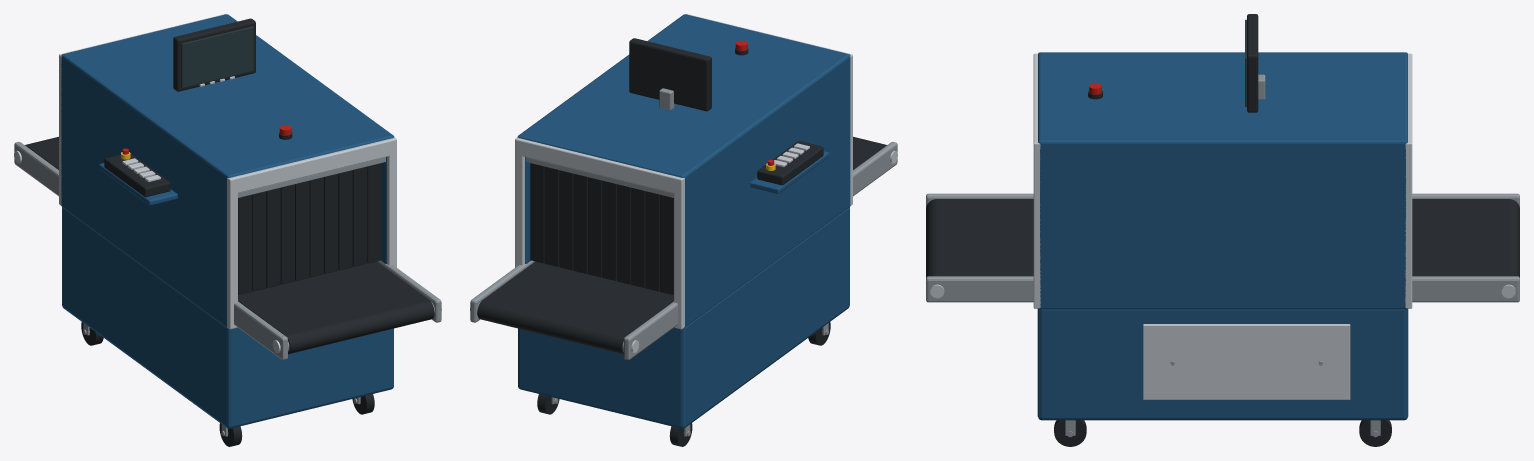
3 renders of one model, left to right at view 1: azimuth 30°, elevation 25°; view 2: azimuth 150°, elevation 25°; view 3: azimuth 270°, elevation 25°, orthographic. The views are drawn at different scales.
Visible parts, largest first — view 1: Lower equipment cabinet, Tunnel roof, Tunnel side wall -1, Continuous conveyor belt, Monitor blank glass, Portal top -1, Conveyor side rail -1, Curtain strip -1_8, Portal upright -1_-1, Monitor case, Curtain strip -1_3, Curtain strip -1_5 (+14 smaller); view 2: Lower equipment cabinet, Tunnel roof, Tunnel side wall -1, Continuous conveyor belt, Monitor case, Portal top 1, Conveyor side rail -1, Curtain strip 1_8, Portal upright -1_1, Curtain strip 1_3, Curtain strip 1_5, Curtain strip 1_9 (+13 smaller); view 3: Tunnel side wall 1, Tunnel roof, Lower equipment cabinet, Continuous conveyor belt, Rear service panel, Conveyor side rail 1, Conveyor side rail -1, Portal upright 1_1, Portal upright 1_-1, Monitor case, Caster wheel 1_-1, Caster wheel 1_1.
Part boxes in pixels (<box>): Lower equipment cabinet: <box>62,207,393,428</box>; Tunnel roof: <box>61,14,394,186</box>; Tunnel side wall -1: <box>61,62,228,328</box>; Continuous conveyor belt: <box>25,136,434,354</box>; Monitor blank glass: <box>181,26,253,88</box>; Portal top -1: <box>227,137,396,194</box>; Conveyor side rail -1: <box>14,141,287,359</box>; Curtain strip -1_8: <box>352,166,367,266</box>; Portal upright -1_-1: <box>227,180,237,329</box>; Monitor case: <box>173,18,255,91</box>; Curtain strip -1_3: <box>280,184,294,284</box>; Curtain strip -1_5: <box>309,177,323,277</box>; Lower equipment cabinet: <box>518,207,849,428</box>; Tunnel roof: <box>517,14,850,186</box>; Tunnel side wall -1: <box>683,67,850,328</box>; Continuous conveyor belt: <box>477,136,886,354</box>; Monitor case: <box>629,38,711,111</box>; Portal top 1: <box>515,137,684,193</box>; Conveyor side rail -1: <box>624,141,897,359</box>; Curtain strip 1_8: <box>544,166,559,266</box>; Portal upright -1_1: <box>674,181,684,329</box>; Curtain strip 1_3: <box>617,184,631,284</box>; Curtain strip 1_5: <box>588,177,602,277</box>; Curtain strip 1_9: <box>530,163,544,263</box>; Tunnel side wall 1: <box>1038,149,1407,309</box>; Tunnel roof: <box>1038,52,1407,154</box>; Lower equipment cabinet: <box>1037,309,1408,420</box>; Continuous conveyor belt: <box>926,199,1519,277</box>; Rear service panel: <box>1143,324,1350,399</box>; Conveyor side rail 1: <box>926,276,1519,302</box>; Conveyor side rail -1: <box>926,193,1519,207</box>; Portal upright 1_1: <box>1405,146,1412,308</box>; Portal upright 1_-1: <box>1033,146,1040,308</box>; Monitor case: <box>1247,14,1258,112</box>; Caster wheel 1_-1: <box>1054,420,1086,446</box>; Caster wheel 1_1: <box>1359,420,1391,446</box>.
Bounding box in the file's own units: 0.859 × 1.39 × 2.
